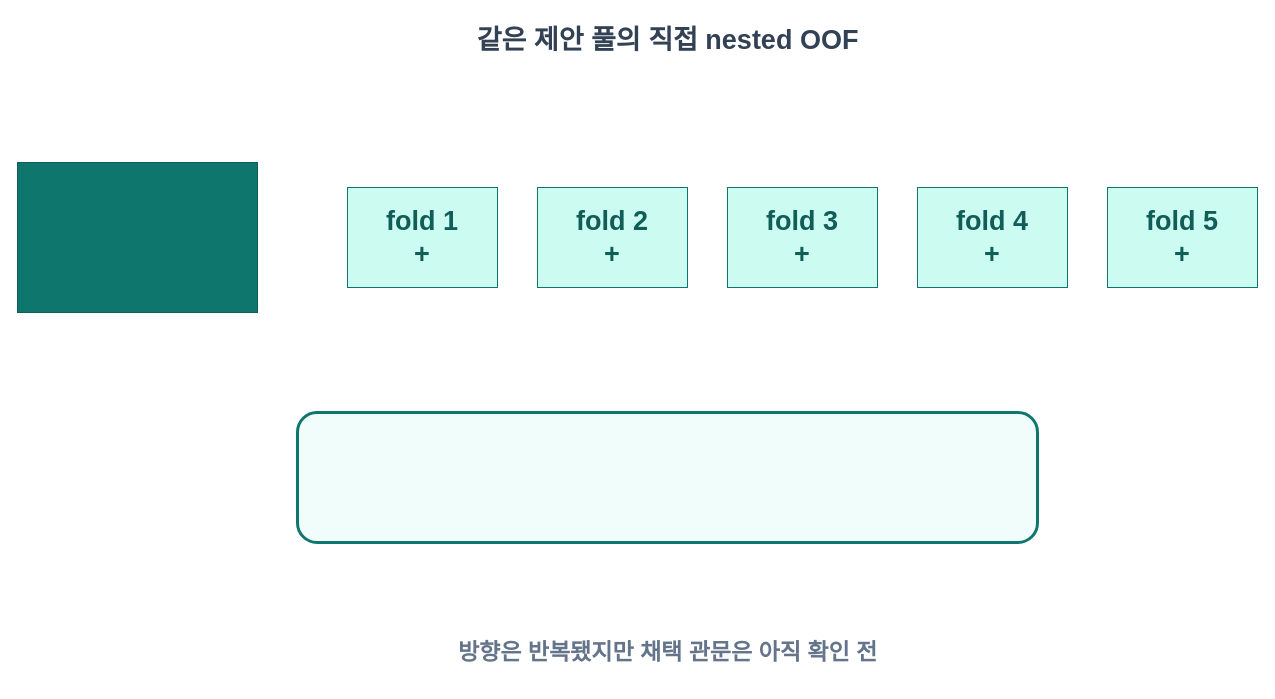
Some shapes in this 1275 by 699 pixel diagram are drawn without their labels. Each missing label, with the box of its shape:
바깥 fold 5/5 양수: (296, 410, 1038, 544)
전체 +0.0000469: (16, 162, 258, 312)
